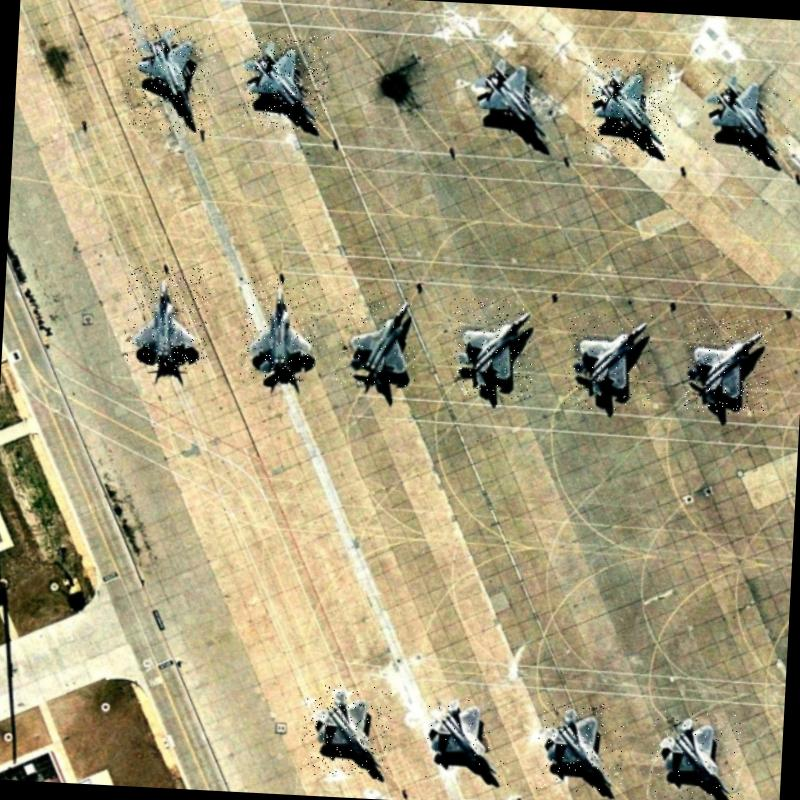A13: (123, 23, 217, 137), (695, 68, 795, 164), (460, 52, 558, 149), (237, 32, 331, 131), (583, 56, 674, 158)
A15: (124, 264, 212, 372), (564, 311, 654, 412), (448, 297, 536, 400), (300, 683, 394, 779), (240, 276, 324, 382), (684, 317, 772, 416), (332, 290, 420, 388), (649, 709, 743, 800), (422, 696, 513, 788), (536, 701, 626, 794)
